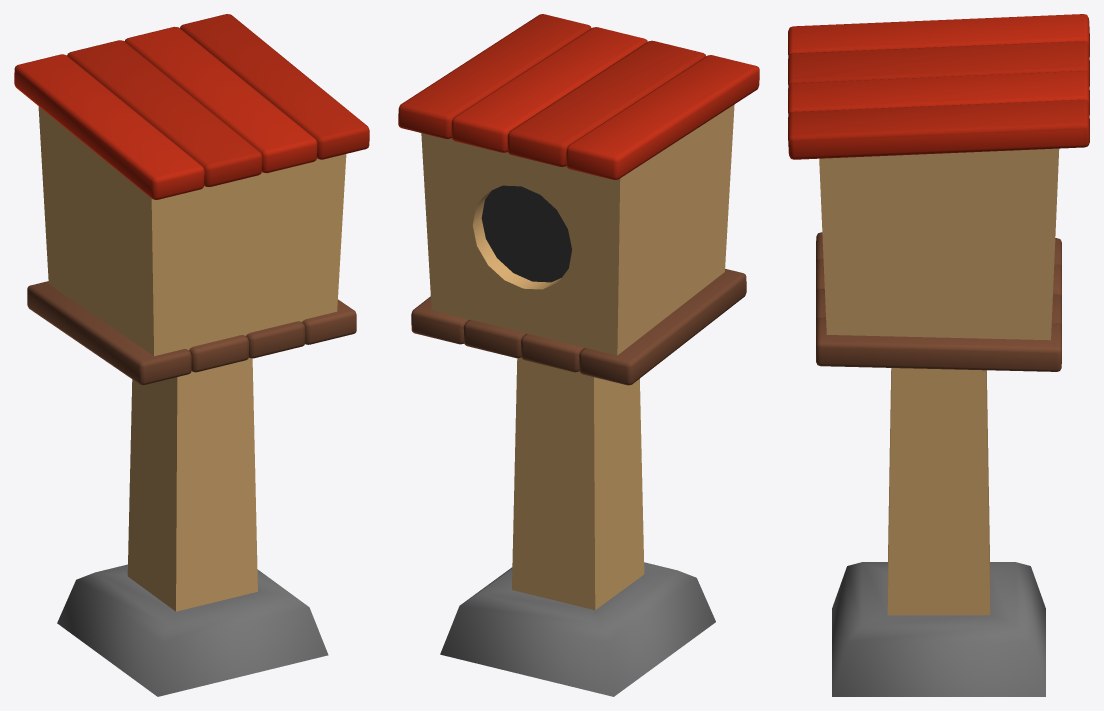
File: prop7.fbx
3 views of the same model, side by side, from view 1: azimuth 30°, elevation 25°; view 2: azimuth 150°, elevation 25°; view 3: azimuth 270°, elevation 25° (orthographic). The views are drawn at different scales.
Parts seen in each view (by area): view 1: Cube.055; view 2: Cube.055; view 3: Cube.055.
Boxes of the visible parts, x1,y1,x2,y2 form: Cube.055: (14,14,369,696); Cube.055: (398,14,759,696); Cube.055: (788,14,1089,696).
Bounding box in the file's own units: 0.7371 × 0.8348 × 1.78.
